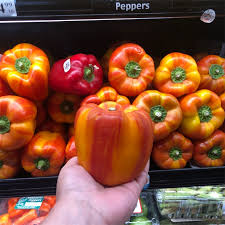bell pepper: (72, 87, 159, 193), (44, 47, 105, 97), (123, 85, 180, 138), (171, 87, 222, 144), (152, 39, 200, 97), (107, 36, 154, 94), (4, 44, 47, 97), (16, 129, 69, 170), (152, 125, 192, 173), (3, 98, 33, 161), (192, 121, 225, 168), (192, 50, 225, 93)
